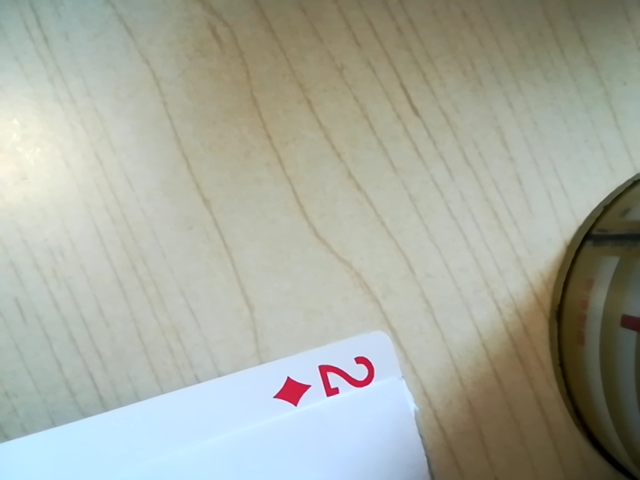fk 2: (266, 353, 388, 409)
